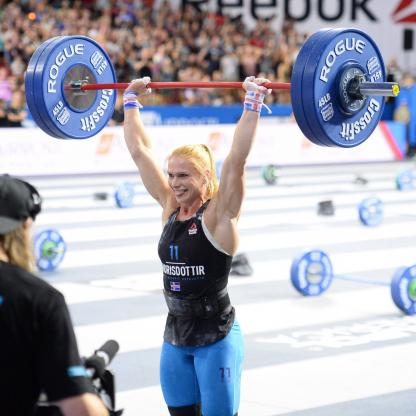barbell: (313, 28, 388, 149), (42, 36, 119, 141)
